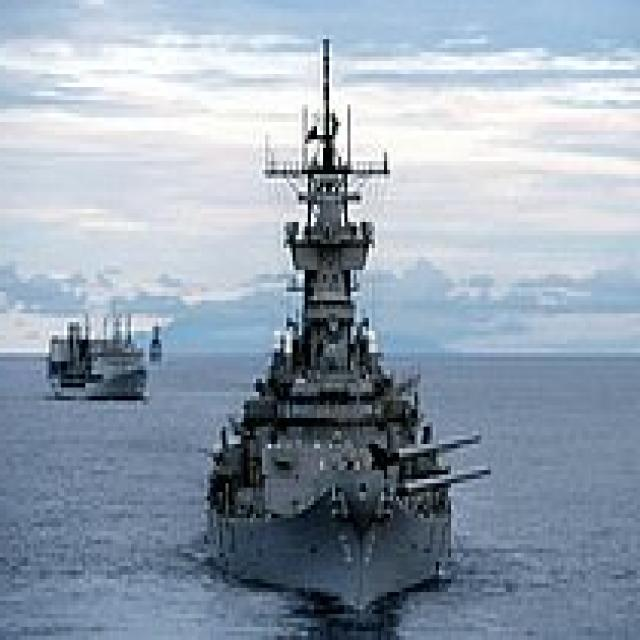Warship: (204, 30, 494, 614), (46, 305, 152, 396)
